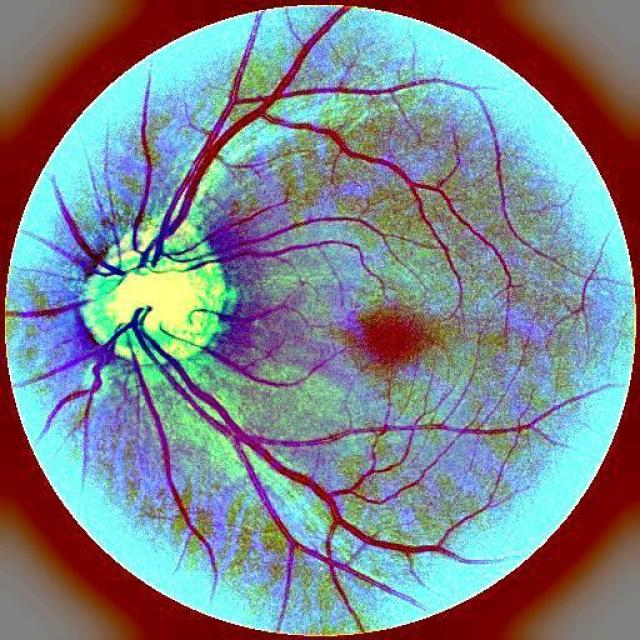Macula: (342, 308, 439, 371)
Nerves: (80, 221, 261, 489), (141, 11, 269, 264), (131, 350, 178, 500), (271, 9, 345, 99), (132, 75, 151, 249), (130, 310, 144, 329)
Optic Disk: (80, 202, 235, 361)
